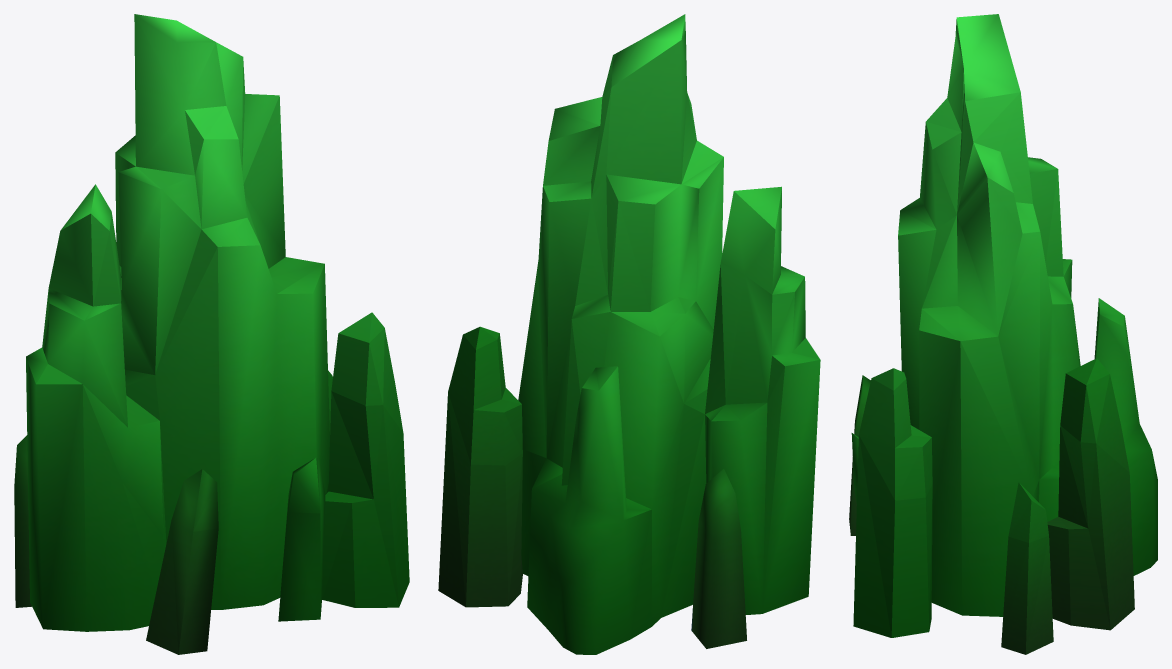
File: ZLP_Crystalk_C_1.FBX
3 renders of one model, left to right at view 1: azimuth 30°, elevation 25°; view 2: azimuth 150°, elevation 25°; view 3: azimuth 270°, elevation 25°, orthographic. The views are drawn at different scales.
Parts seen in each view (by area): view 1: ZLP_Crystalk_C_1; view 2: ZLP_Crystalk_C_1; view 3: ZLP_Crystalk_C_1.
Part boxes in pixels (box(x1,y1,x2,y2)): ZLP_Crystalk_C_1: box(14, 14, 409, 654); ZLP_Crystalk_C_1: box(438, 14, 820, 654); ZLP_Crystalk_C_1: box(849, 14, 1157, 654).
Bounding box in the file's own units: 245 × 390 × 201.
